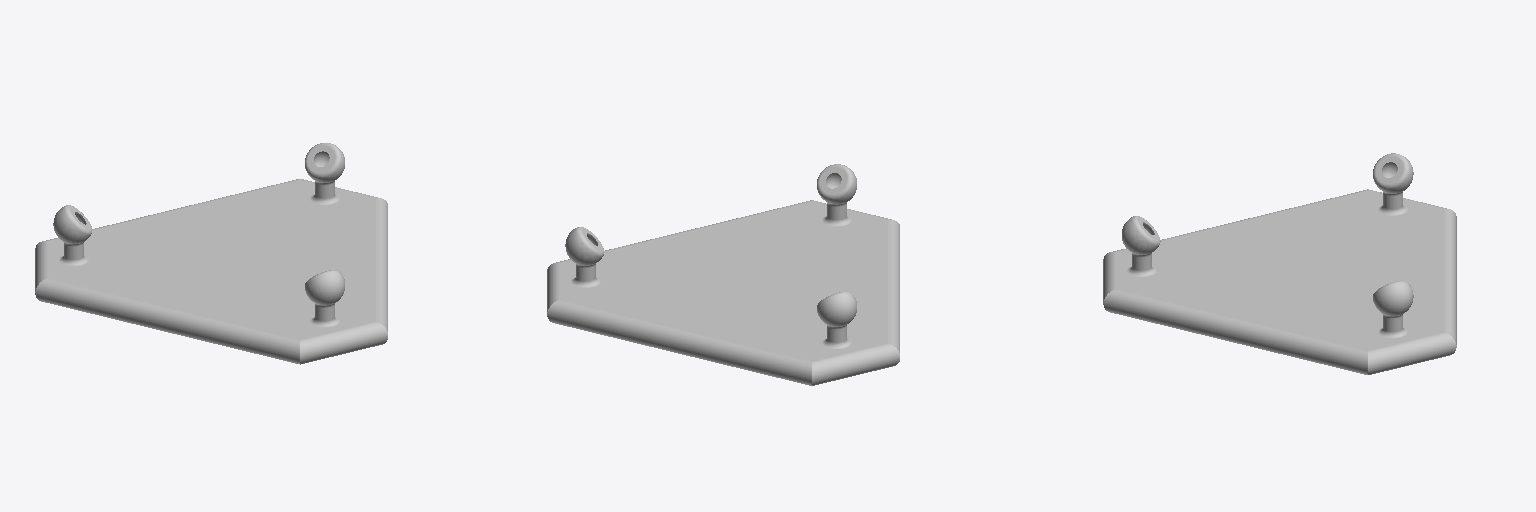
Rendered from 10_podstawa.obj.
The picture shows the model from 3 angles: view 1: azimuth 30°, elevation 25°; view 2: azimuth 150°, elevation 25°; view 3: azimuth 270°, elevation 25°; orthographic projection.
Visible parts, largest first — view 1: <STL_BINARY>; view 2: <STL_BINARY>; view 3: <STL_BINARY>.
Part boxes in pixels (x1,y1,x2,y2): <STL_BINARY>: (35, 143, 387, 364); <STL_BINARY>: (547, 164, 899, 385); <STL_BINARY>: (1103, 153, 1456, 374).
Size of the model in its own units: 1600 by 328 by 1386.